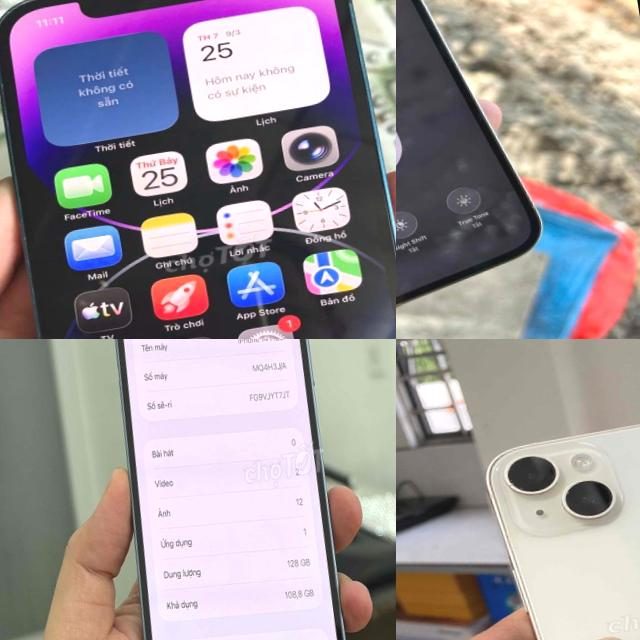gen_12_13: (0, 0, 396, 339)
gen_14: (77, 339, 368, 640), (396, 0, 560, 339), (476, 389, 640, 640)
